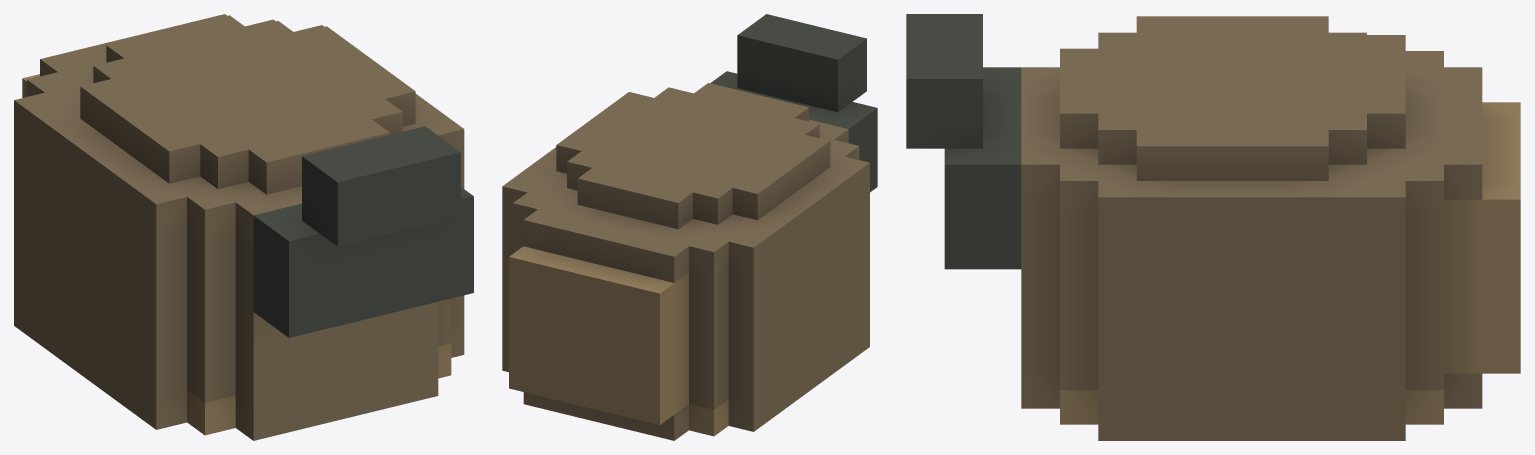
The model's file is female_body.glb.
The picture shows the model from 3 angles, left to right: view 1: azimuth 30°, elevation 25°; view 2: azimuth 150°, elevation 25°; view 3: azimuth 270°, elevation 25°; orthographic projection. The views are drawn at different scales.
Visible parts, largest first — view 1: VoxelVisual; view 2: VoxelVisual; view 3: VoxelVisual.
Boxes of the visible parts, bbox=[...] form: VoxelVisual: bbox=[14, 14, 473, 440]; VoxelVisual: bbox=[502, 14, 877, 440]; VoxelVisual: bbox=[906, 14, 1520, 440].
Size of what is drawn, in the model's own units: 0.625 by 0.5625 by 1.
